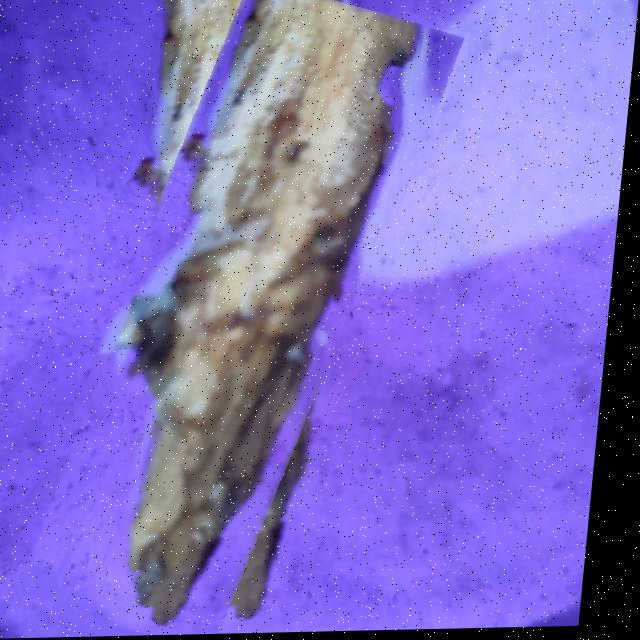wood: (66, 0, 427, 638)
